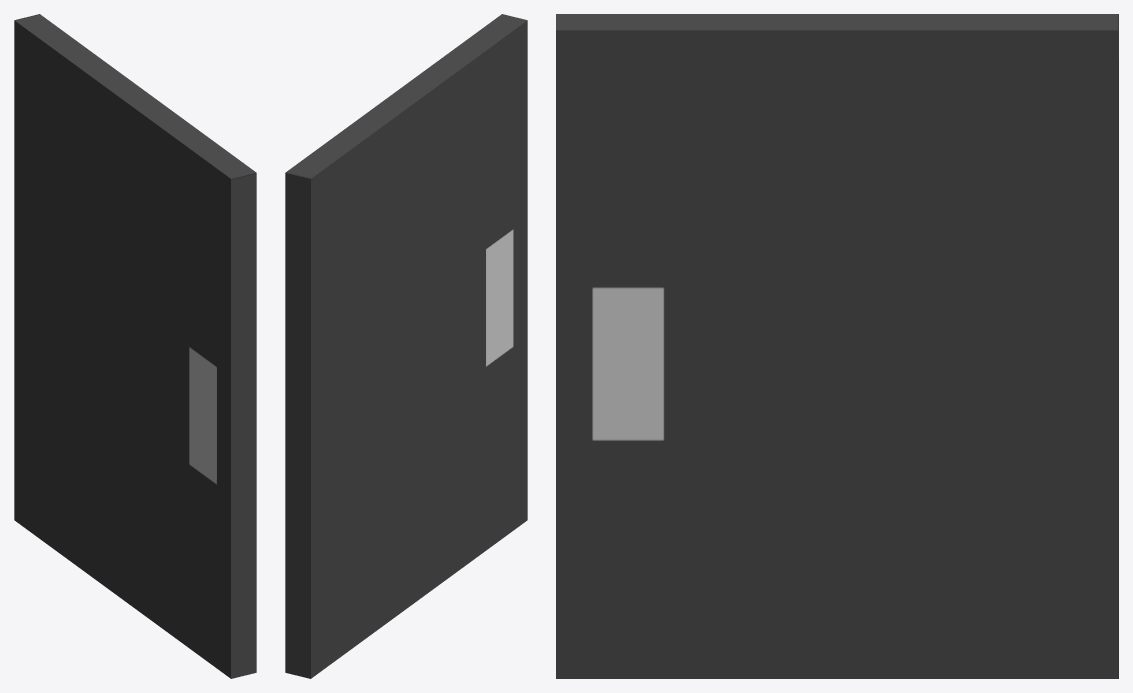
The model's file is SB_Door.fbx.
3 renders of one model, left to right at view 1: azimuth 30°, elevation 25°; view 2: azimuth 150°, elevation 25°; view 3: azimuth 270°, elevation 25°, orthographic. The views are drawn at different scales.
Parts seen in each view (by area): view 1: Cube.003; view 2: Cube.003; view 3: Cube.003.
Boxes of the visible parts, bbox=[...] form: Cube.003: bbox=[14, 14, 256, 678]; Cube.003: bbox=[285, 14, 527, 678]; Cube.003: bbox=[556, 14, 1118, 678].
Bounding box in the file's own units: 27.36 × 510 × 401.
